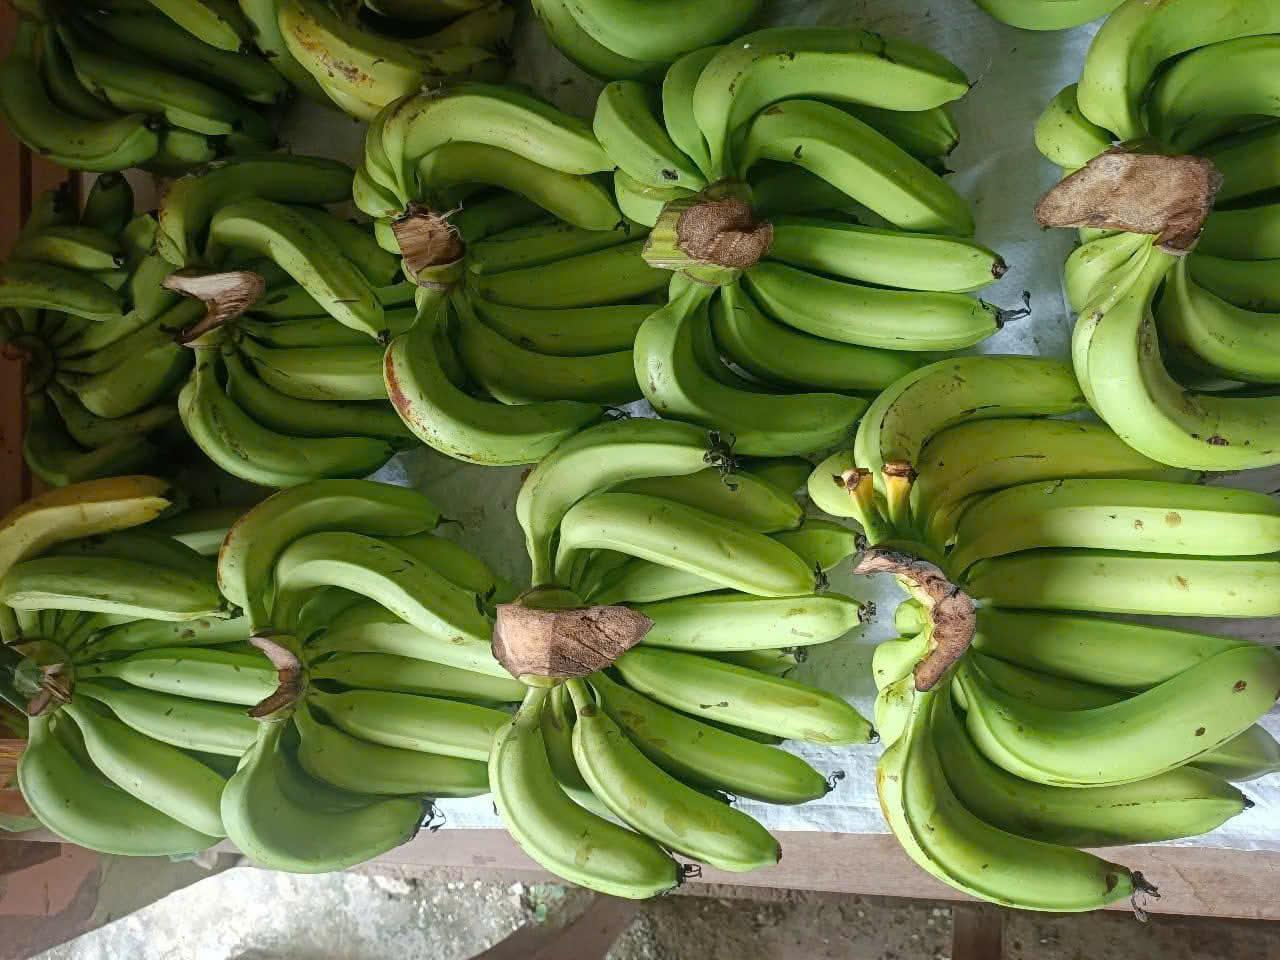banana: (1038, 18, 1280, 458), (0, 478, 261, 876), (462, 682, 862, 912), (892, 690, 1280, 918), (453, 455, 841, 670), (855, 490, 1280, 684), (174, 648, 531, 876), (552, 23, 1020, 184), (290, 77, 649, 257), (630, 168, 1001, 340), (360, 250, 644, 446), (158, 490, 510, 626), (178, 178, 385, 354), (165, 348, 414, 485)
